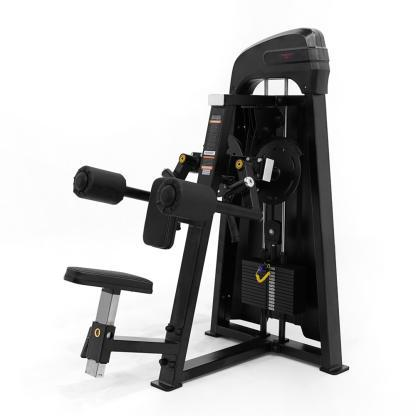lateral raises machine: (61, 24, 351, 391)
